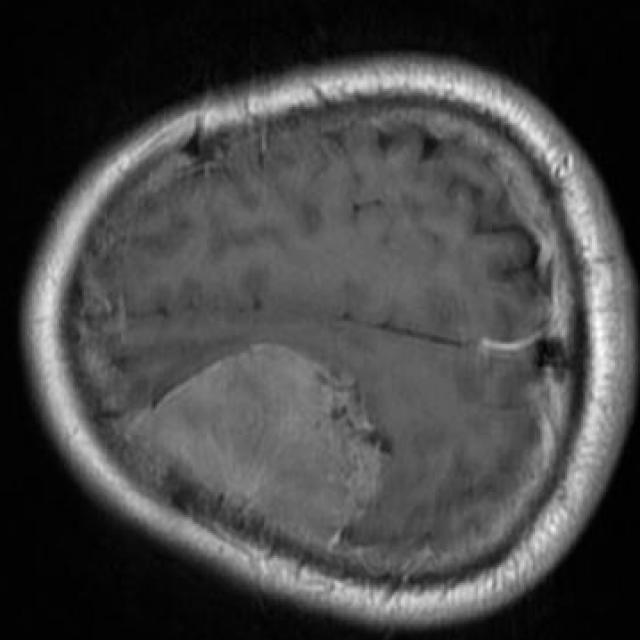meningioma: (123, 346, 380, 531)
